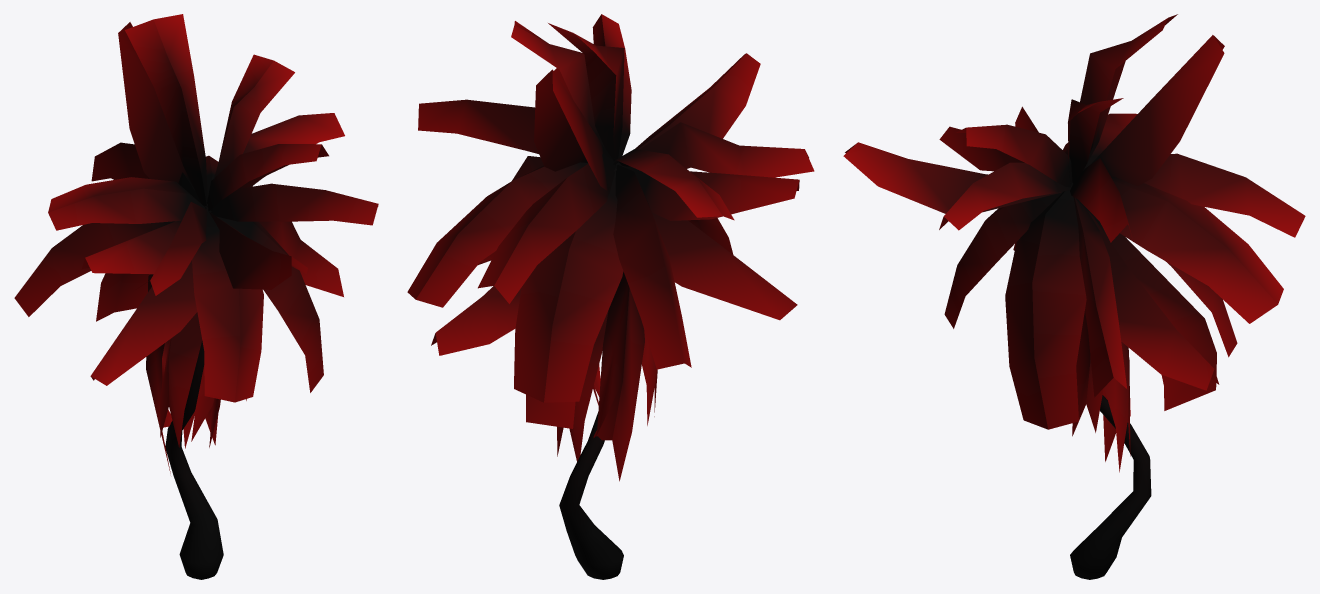
The model's file is TAI_Palm_Tree_03A.fbx.
The picture shows the model from 3 angles, left to right: view 1: azimuth 30°, elevation 25°; view 2: azimuth 150°, elevation 25°; view 3: azimuth 270°, elevation 25°; orthographic projection. The views are drawn at different scales.
Visible parts, largest first — view 1: TAI_Palm_Tree_03A_LOD1; view 2: TAI_Palm_Tree_03A_LOD1; view 3: TAI_Palm_Tree_03A_LOD1.
Part boxes in pixels (box(x1,y1,x2,y2)): TAI_Palm_Tree_03A_LOD1: box(14, 14, 378, 579); TAI_Palm_Tree_03A_LOD1: box(407, 14, 814, 579); TAI_Palm_Tree_03A_LOD1: box(843, 14, 1305, 579).
Size of the model in its own units: 704 by 1190 by 894.
